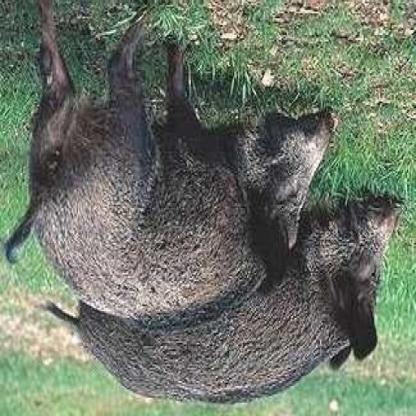boar: (4, 35, 347, 343)
